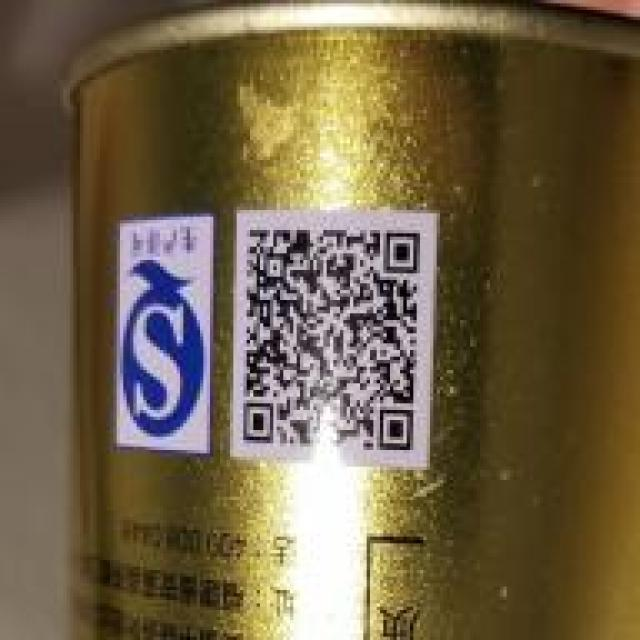QR_CODE: (238, 212, 430, 470)
